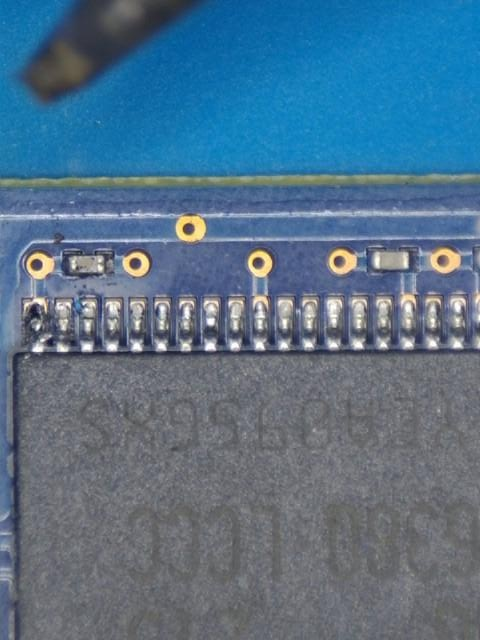pcb_defect: (26, 300, 73, 354)
